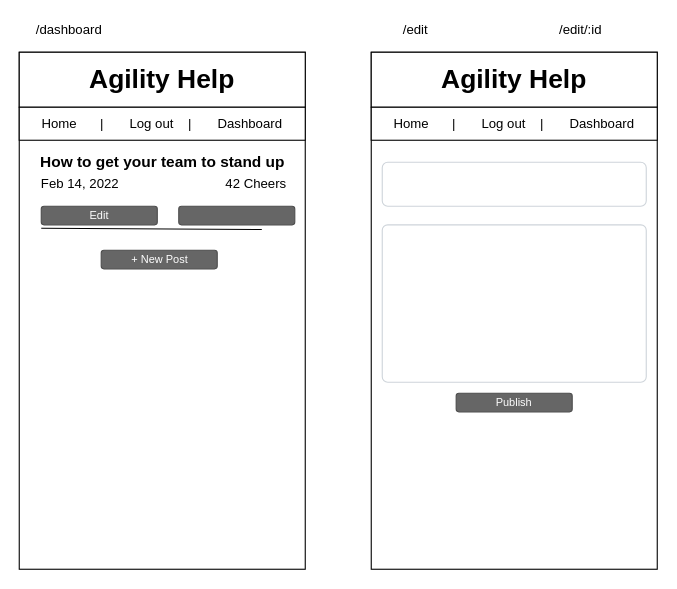
The diagram is 677 pixels wide and 589 high, and some of its shapes have lost their labels. Here are the shapes that lost their labels. From the top down, the centre of each, then its label:
the point at 513,183: Title
the point at 236,215: Delete
the point at 513,303: Post content
